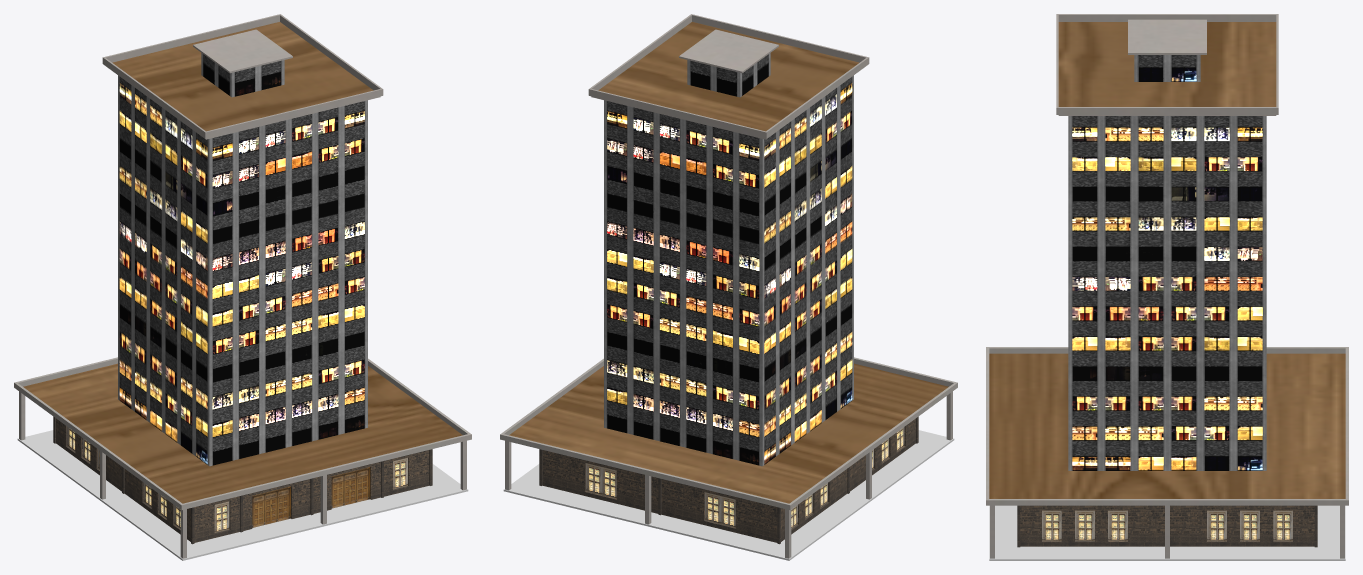
File: BuildingA.fbx
3 views of the same model, side by side, from view 1: azimuth 30°, elevation 25°; view 2: azimuth 150°, elevation 25°; view 3: azimuth 270°, elevation 25° (orthographic). The views are drawn at different scales.
Visible parts, largest first — view 1: BuildingA; view 2: BuildingA; view 3: BuildingA.
Boxes of the visible parts, bbox=[...] form: BuildingA: bbox=[14, 14, 471, 560]; BuildingA: bbox=[500, 14, 957, 560]; BuildingA: bbox=[986, 14, 1348, 560].
Size of the model in its own units: 3661 by 5003 by 3661.
